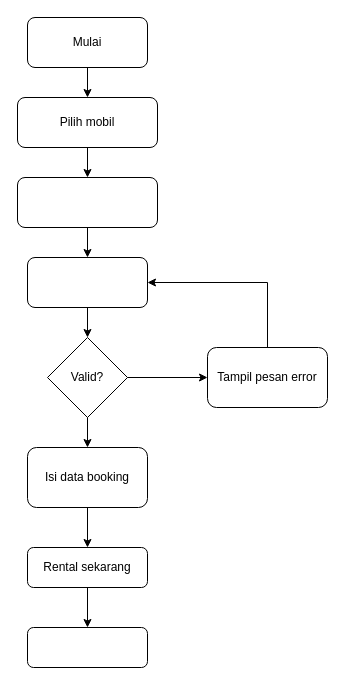
Some shapes in this 345 by 685 pixel diagram are drawn without their labels. Each missing label, with the centre of its shape:
"End" goes at pixel 87 647.
"Lengkapi data profile" goes at pixel 87 282.
"Tampil detail booking mobil" goes at pixel 87 202.
